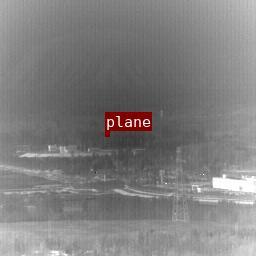plane: (105, 131, 109, 135)
